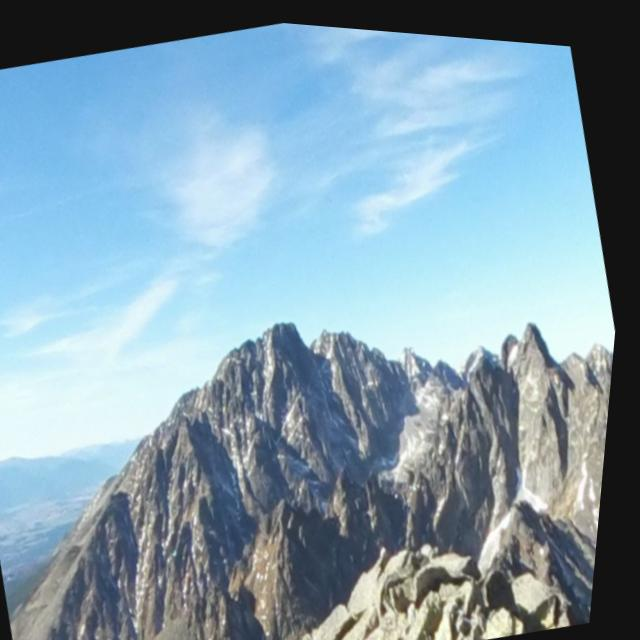Gerlachovsky Stit: (146, 183, 438, 467)
Rysy: (421, 277, 538, 410)
Vysoka: (384, 322, 428, 374)
